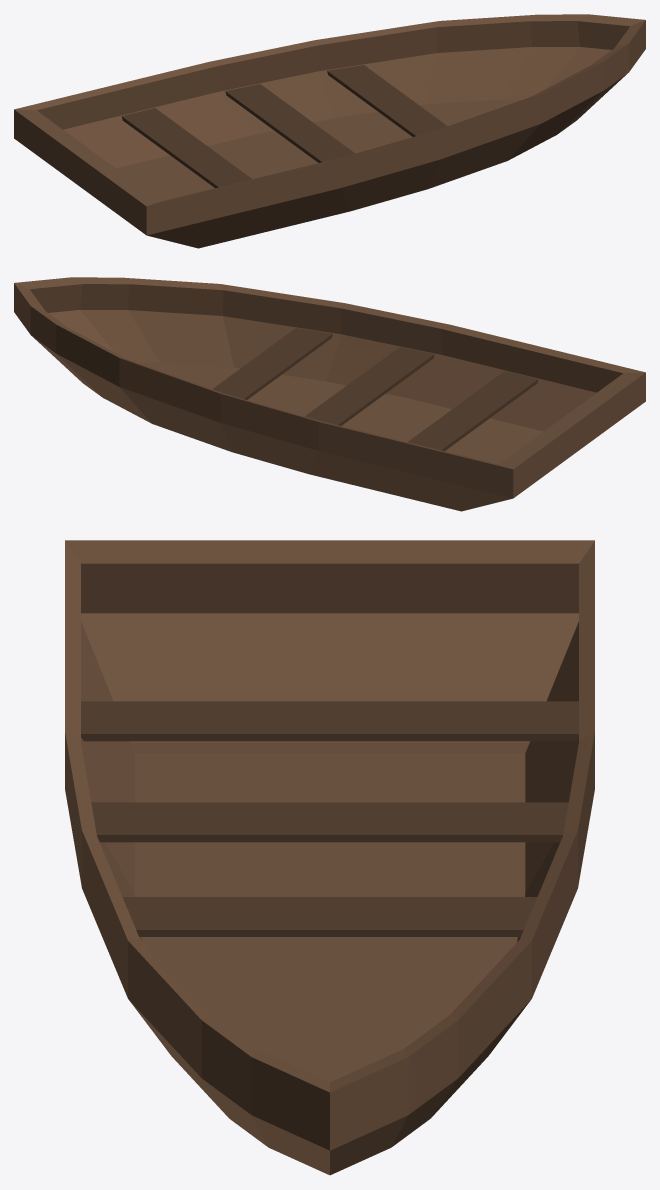
Rendered from boat2.fbx.
3 renders of one model, top to bottom at view 1: azimuth 30°, elevation 25°; view 2: azimuth 150°, elevation 25°; view 3: azimuth 270°, elevation 25°, orthographic. The views are drawn at different scales.
Visible parts, largest first — view 1: Plane, Plane.001, Plane.002, Plane.003; view 2: Plane, Plane.001, Plane.002, Plane.003; view 3: Plane, Plane.001, Plane.002, Plane.003.
Part boxes in pixels (<box>): Plane: <box>14,14,645,248</box>; Plane.001: <box>121,108,252,188</box>; Plane.002: <box>225,84,354,162</box>; Plane.003: <box>327,65,447,136</box>; Plane: <box>14,277,645,511</box>; Plane.001: <box>407,371,538,451</box>; Plane.002: <box>305,347,434,425</box>; Plane.003: <box>212,328,332,399</box>; Plane: <box>65,540,594,1175</box>; Plane.001: <box>81,701,578,741</box>; Plane.002: <box>91,802,568,842</box>; Plane.003: <box>122,897,537,936</box>.
Size of the model in its own units: 674 by 78.1 by 273.
